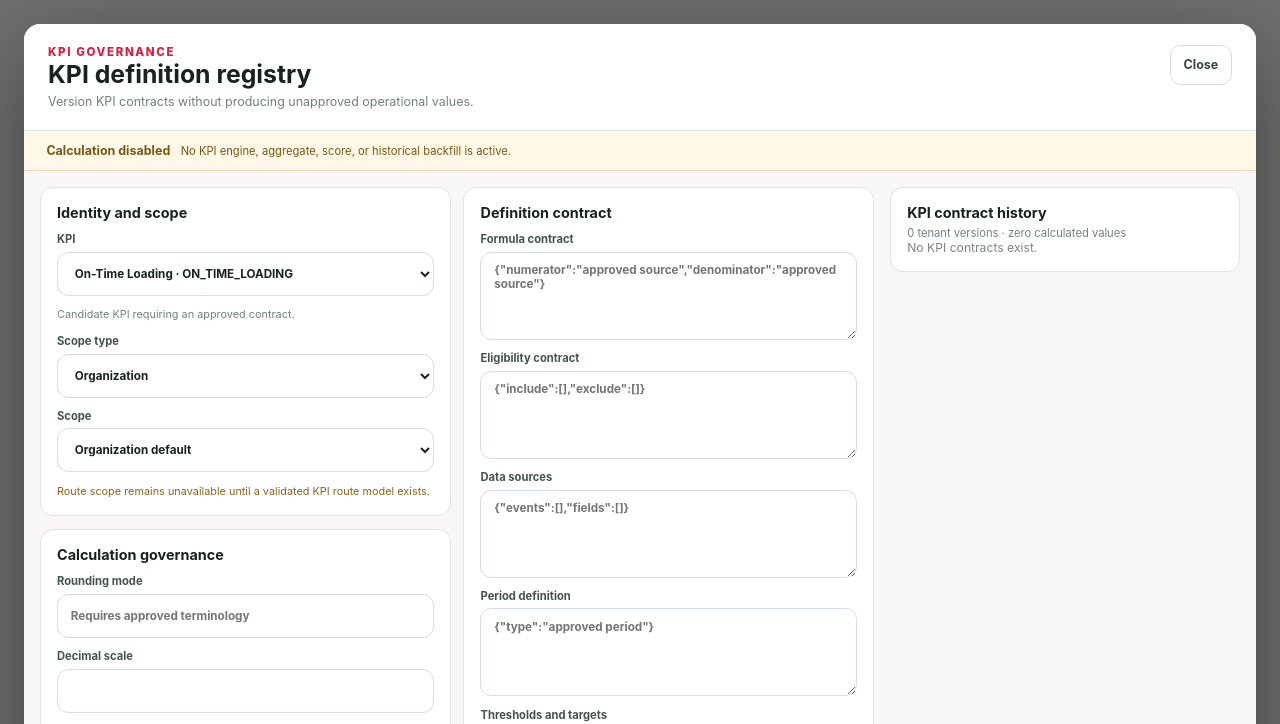
Test case: KpiConfigurationWorkspace › makes the non-calculating registry boundary explicit
Check: the text "Calculation disabled" is shown, box [46,143,170,158]
Check: the text "No KPI engine, aggregate, score" is shown, box [181,144,511,158]
Select "Driver" in the dropdown labelled "Scope type" at point(245, 376), box [57,354,434,398]
(page scrolled)
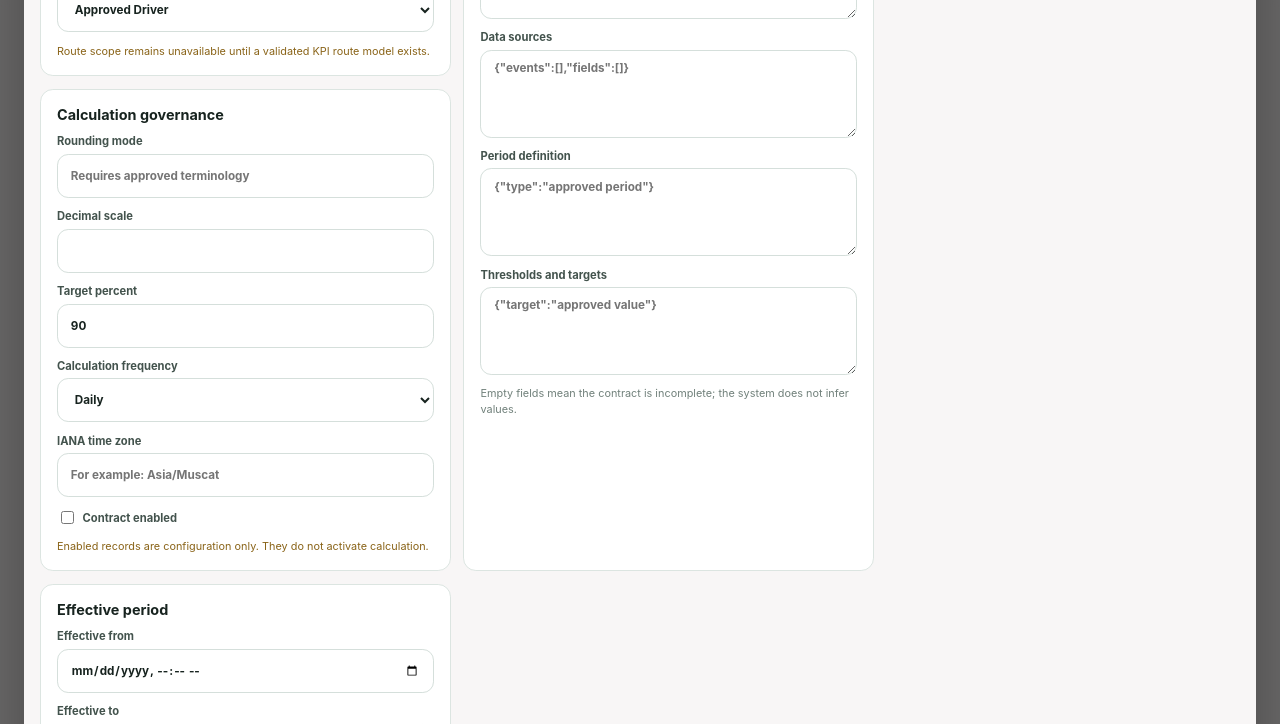
Check: the number field labelled "Target percent" holds "90", box [57,304,434,348]
Check: the dropdown labelled "Calculation frequency" shows "Daily", box [57,378,434,422]
